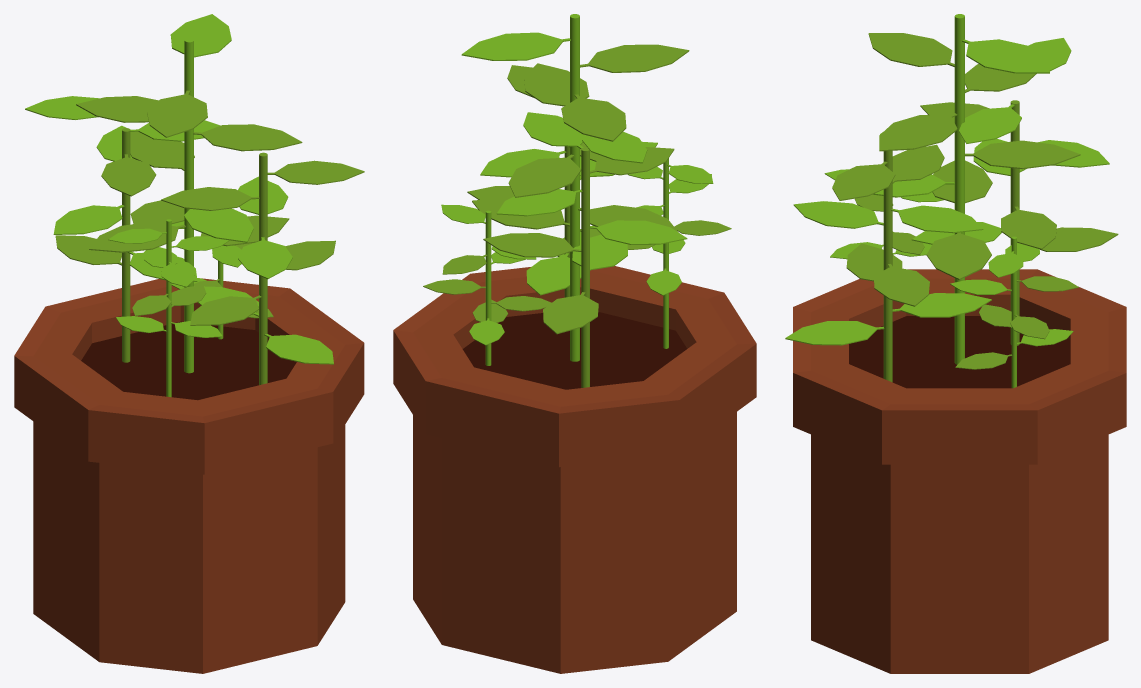
File: Plant3.fbx
The picture shows the model from 3 angles, left to right: view 1: azimuth 30°, elevation 25°; view 2: azimuth 150°, elevation 25°; view 3: azimuth 270°, elevation 25°; orthographic projection. The views are drawn at different scales.
Parts seen in each view (by area): view 1: Pot, Plane, Plane.002, Soil, Plane.004, Plane.003, Plant, Plant.002, Plant.004, Plant.003, Plane.001; view 2: Pot, Plane, Plane.004, Soil, Plane.001, Plane.002, Plane.003, Plant, Plant.004, Plant.001, Plant.003; view 3: Pot, Plane, Plane.002, Soil, Plane.004, Plane.001, Plant, Plane.003, Plant.002, Plant.004, Plant.001.
Boxes of the visible parts, box(x1,y1,x2,y2) form: Pot: box(14, 278, 364, 673); Plane: box(76, 14, 302, 252); Plane.002: box(161, 160, 364, 364); Soil: box(81, 321, 296, 400); Plane.004: box(25, 96, 220, 281); Plane.003: box(108, 228, 229, 337); Plant: box(184, 38, 193, 373); Plant.002: box(259, 152, 267, 385); Plant.004: box(122, 128, 130, 362); Plant.003: box(166, 219, 171, 397); Plane.001: box(171, 221, 273, 318); Pot: box(393, 266, 756, 673); Plane: box(461, 32, 689, 232); Plane.004: box(483, 112, 687, 334); Soil: box(462, 312, 686, 389); Plane.001: box(423, 204, 551, 345); Plane.002: box(467, 65, 657, 295); Plane.003: box(627, 164, 731, 295); Plant: box(570, 14, 579, 361); Plant.004: box(581, 147, 589, 387); Plant.001: box(485, 210, 491, 365); Plant.003: box(663, 158, 668, 348); Pot: box(793, 269, 1126, 673); Plane: box(868, 33, 1080, 279); Plane.002: box(785, 144, 991, 345); Soil: box(849, 316, 1070, 388); Plane.004: box(911, 38, 1118, 251); Plane.001: box(950, 242, 1078, 369); Plant: box(954, 14, 964, 364); Plane.003: box(824, 132, 943, 259); Plant.002: box(883, 150, 892, 382); Plant.004: box(1010, 100, 1019, 345); Plant.001: box(1011, 236, 1016, 388).
Bounding box in the file's own units: 224 × 441 × 230.
